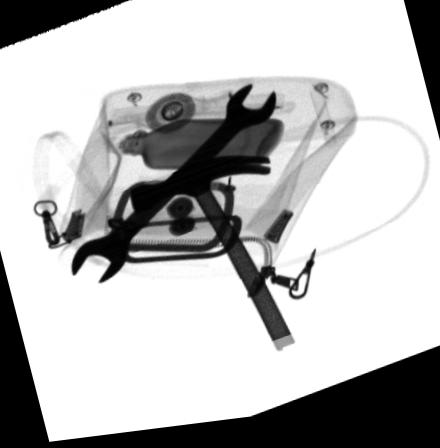Hammer: (129, 159, 300, 362)
Wrench: (71, 89, 277, 289)
